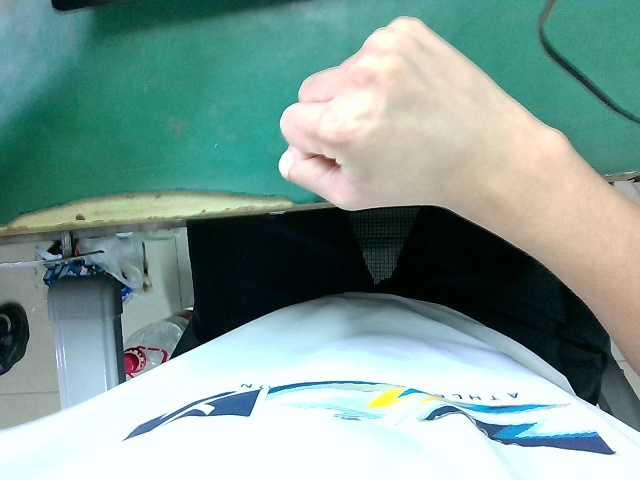stone: (269, 10, 579, 267)
